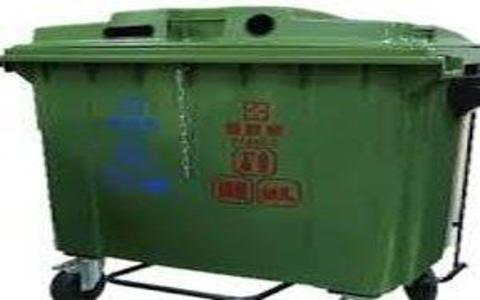Proper garbage: (3, 3, 475, 300)
